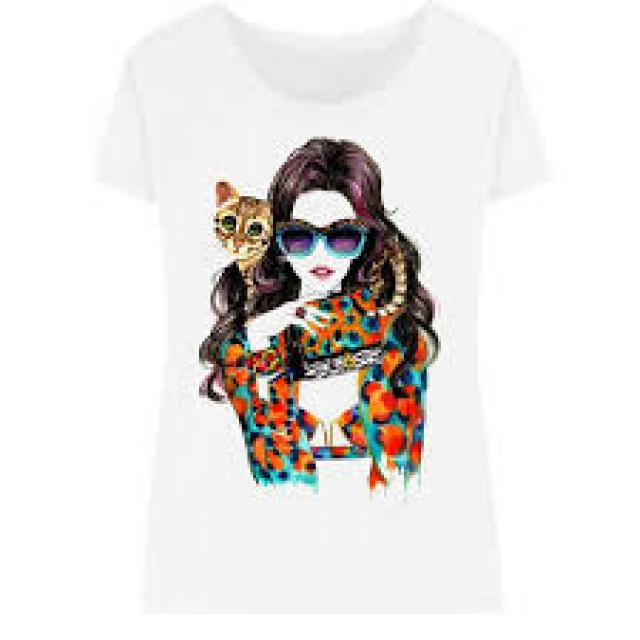Shirt: (83, 3, 552, 629)
